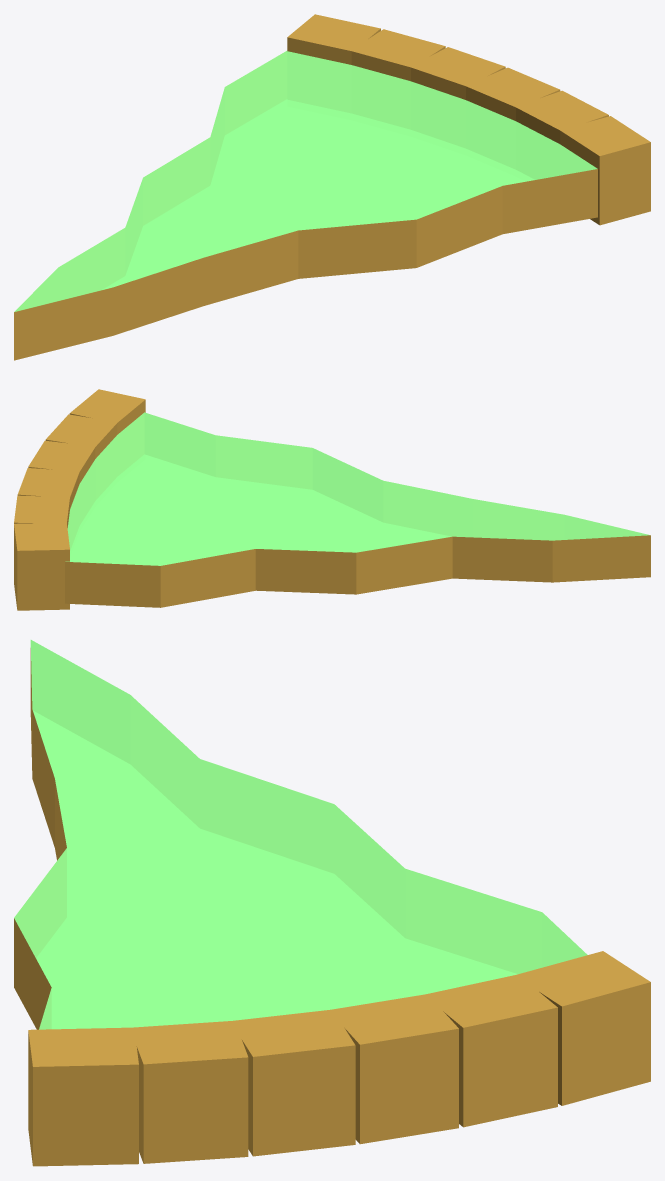
The model's file is prop_compass_piece_01_v01.glb.
The picture shows the model from 3 angles, top to bottom: view 1: azimuth 30°, elevation 25°; view 2: azimuth 150°, elevation 25°; view 3: azimuth 270°, elevation 25°; orthographic projection. The views are drawn at different scales.
Parts seen in each view (by area): view 1: piece_01; view 2: piece_01; view 3: piece_01.
Boxes of the visible parts, x1=… form: piece_01: x1=14, y1=14, x2=650, y2=360; piece_01: x1=14, y1=389, x2=650, y2=610; piece_01: x1=14, y1=640, x2=650, y2=1166.
Bounding box in the file's own units: 0.482 × 0.05 × 0.29.
